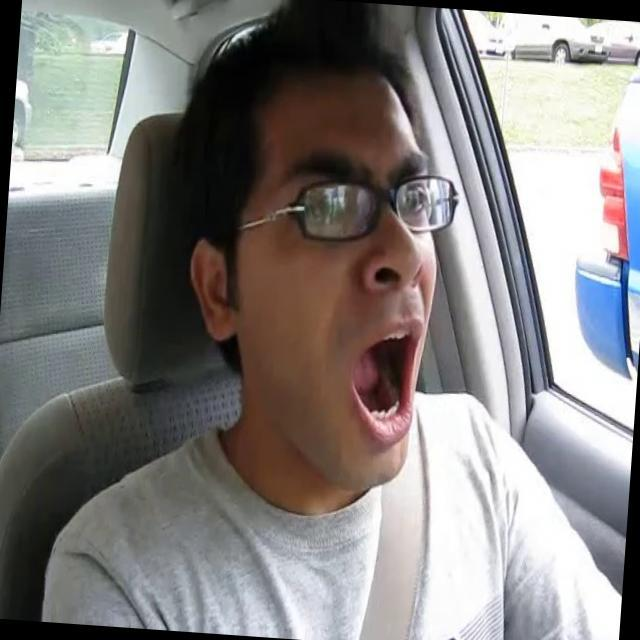Yawning: (350, 316, 422, 448)
